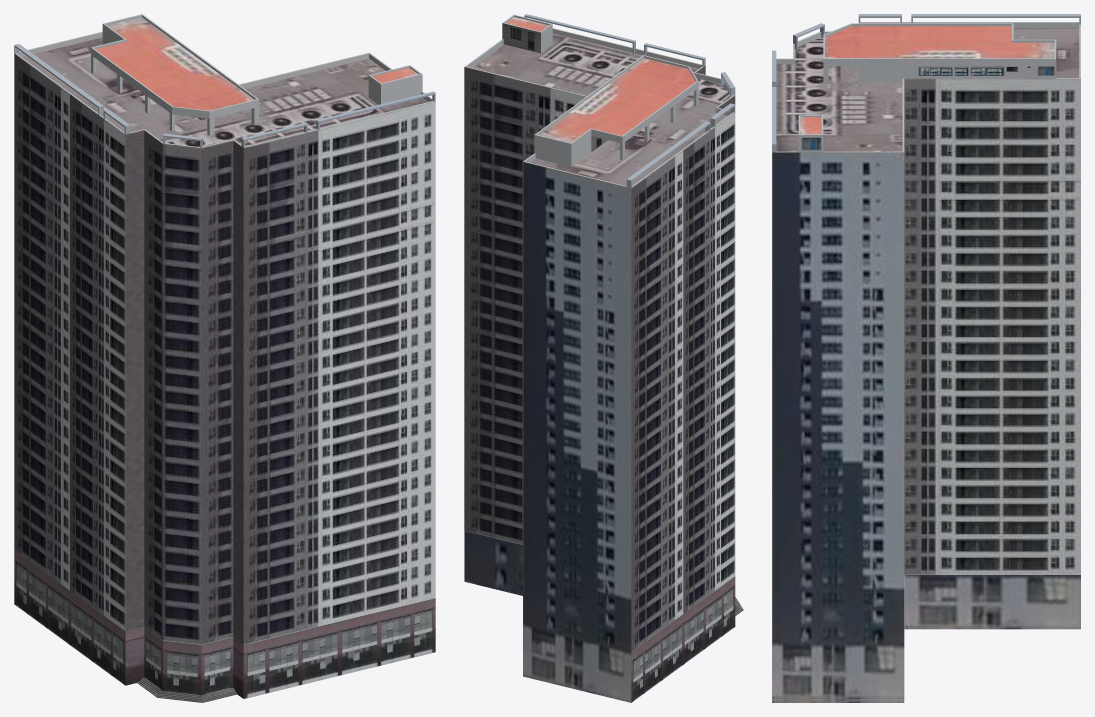
The picture shows the model from 3 angles, left to right: view 1: azimuth 30°, elevation 25°; view 2: azimuth 150°, elevation 25°; view 3: azimuth 270°, elevation 25°; orthographic projection. The views are drawn at different scales.
Visible parts, largest first — view 1: HN861_TheParkHome; view 2: HN861_TheParkHome; view 3: HN861_TheParkHome.
Boxes of the visible parts, bbox=[...] form: HN861_TheParkHome: bbox=[14, 14, 435, 702]; HN861_TheParkHome: bbox=[464, 14, 743, 702]; HN861_TheParkHome: bbox=[772, 14, 1080, 702].
Bounding box in the file's own units: 55.24 × 113 × 55.39.
1 material, 1 textured.
